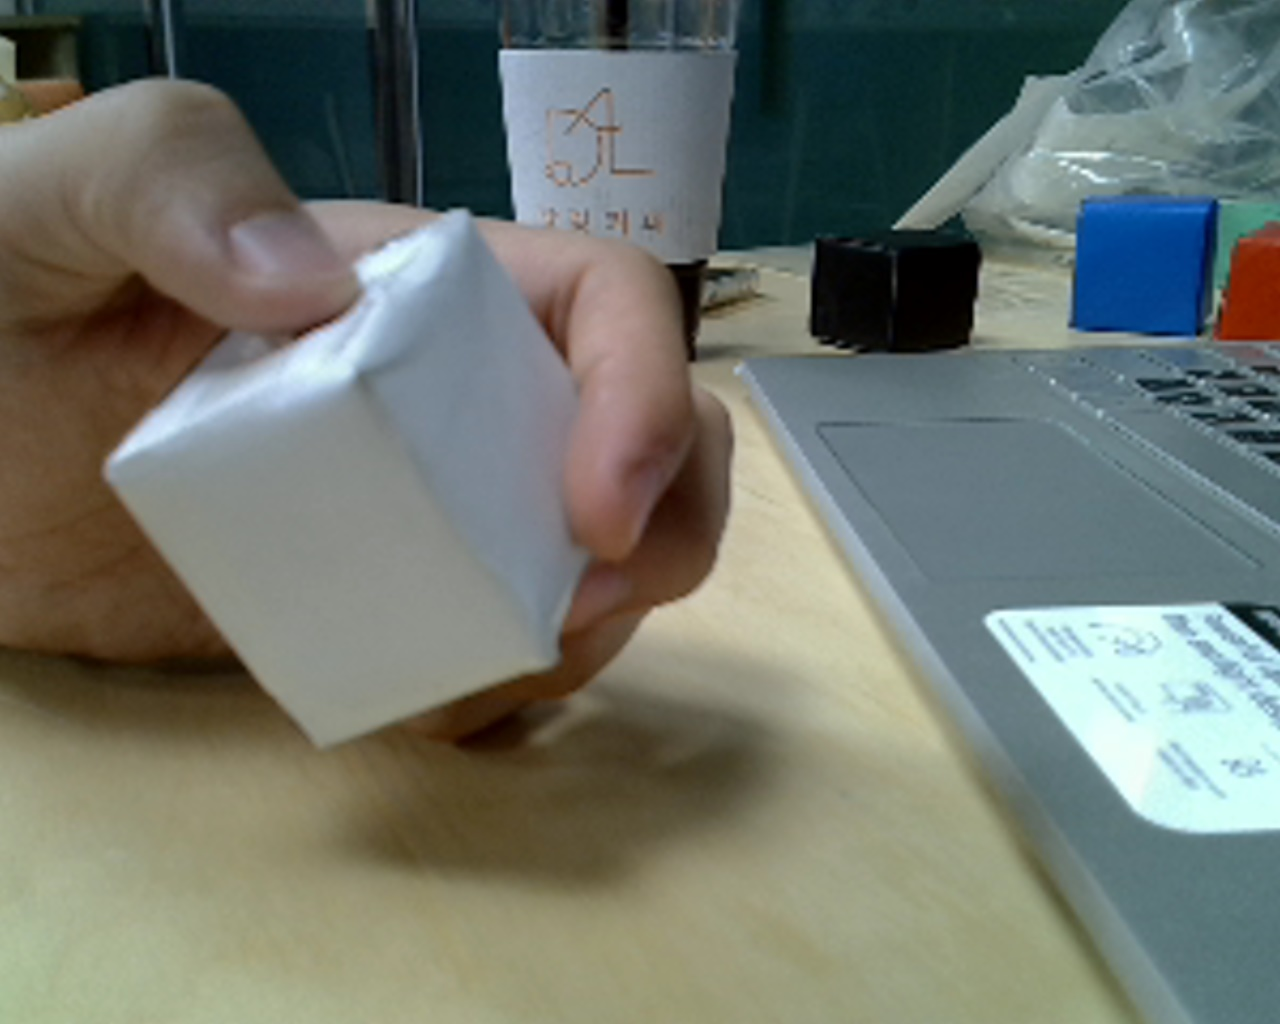whitebox: (89, 184, 694, 752)
